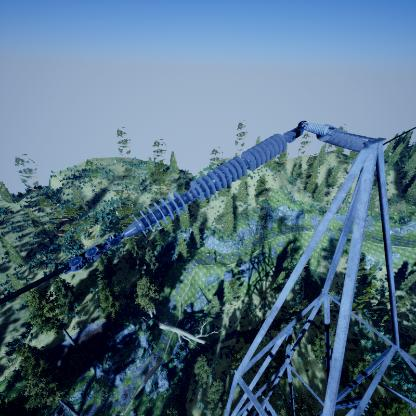insulator: (131, 133, 288, 236)
